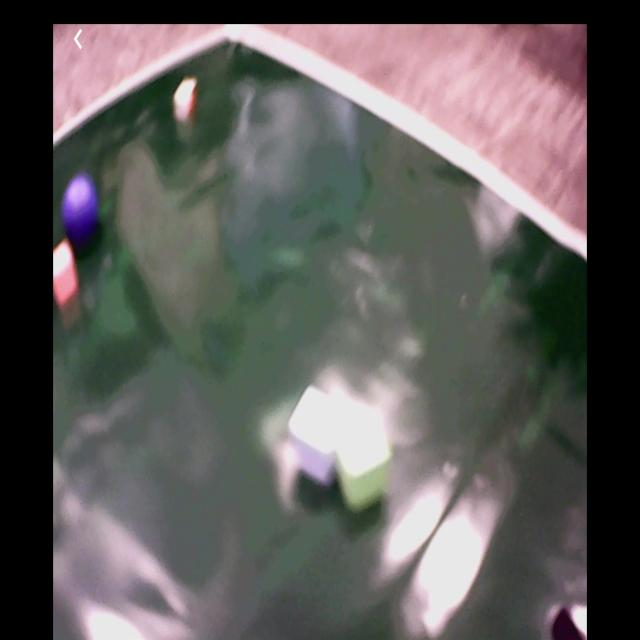ball: (63, 177, 98, 242)
